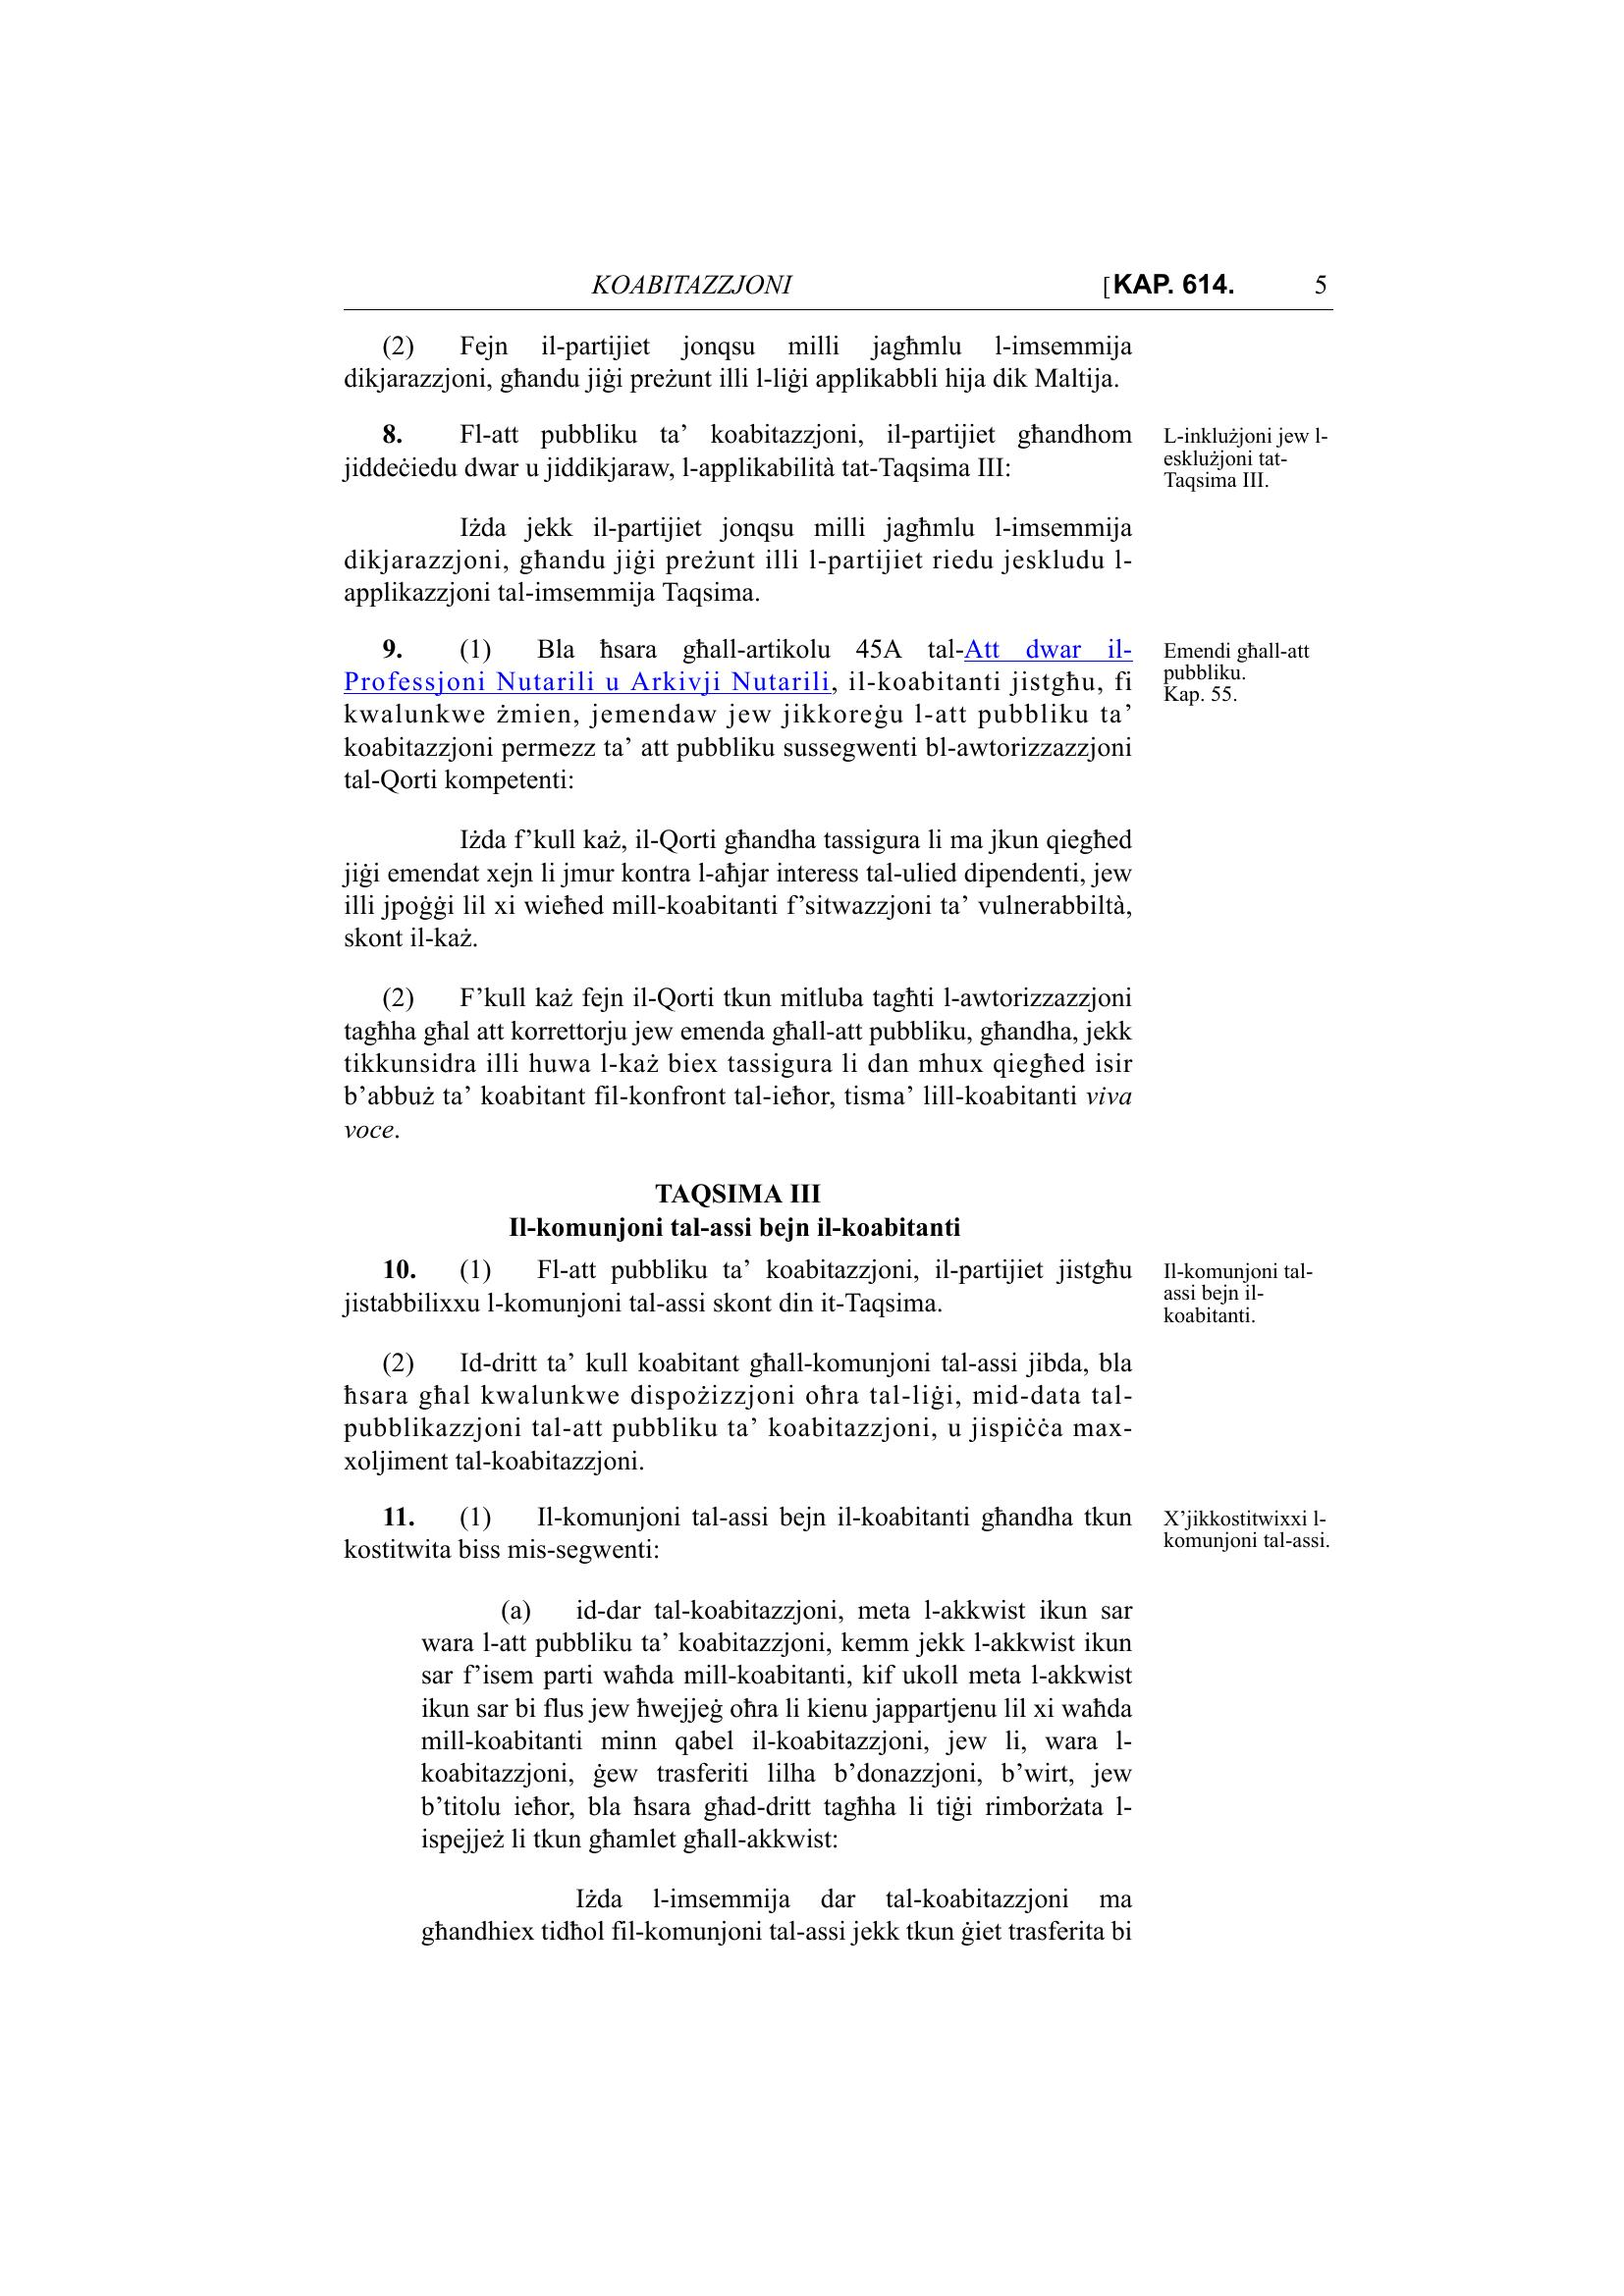text: (325, 323, 1146, 1969)
